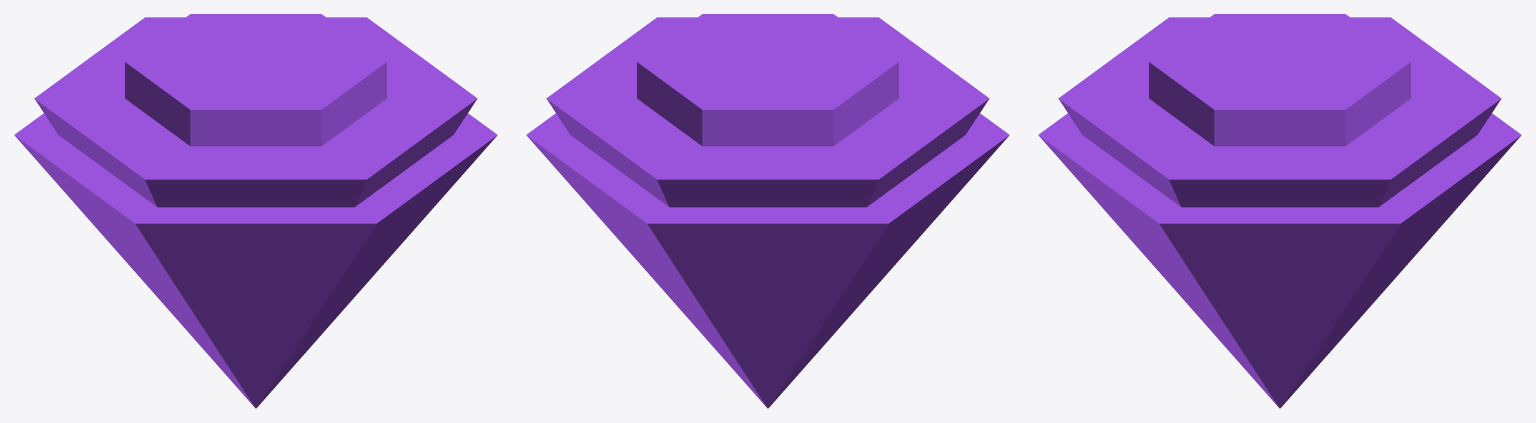
File: SM_Currency_PremiumGem.fbx
3 views of the same model, side by side, from view 1: azimuth 30°, elevation 25°; view 2: azimuth 150°, elevation 25°; view 3: azimuth 270°, elevation 25° (orthographic).
Parts seen in each view (by area): view 1: SM_Currency_PremiumGem; view 2: SM_Currency_PremiumGem; view 3: SM_Currency_PremiumGem.
Boxes of the visible parts, left/top/right/bottom form: SM_Currency_PremiumGem: left=14, top=14, right=497, bottom=408; SM_Currency_PremiumGem: left=526, top=14, right=1009, bottom=408; SM_Currency_PremiumGem: left=1038, top=14, right=1521, bottom=408.
Bounding box in the file's own units: 0.4157 × 0.38 × 0.48.
